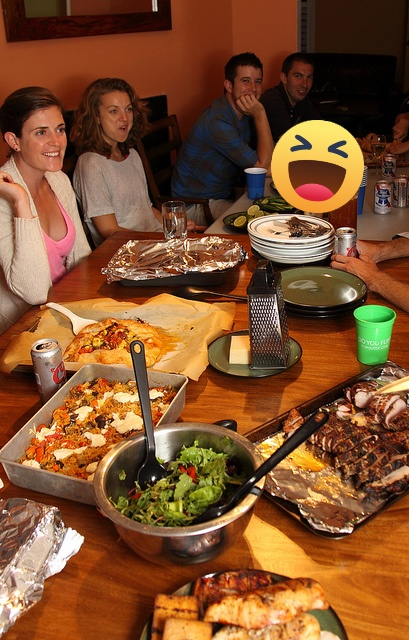haha: (271, 120, 364, 213)
